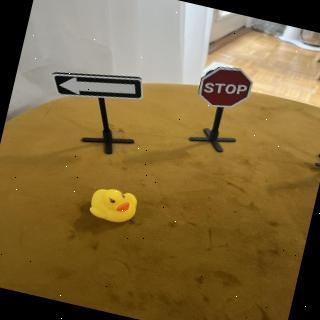duck_regular: (85, 182, 144, 230)
sign_oneway_left: (48, 57, 150, 116)
sign_stop: (195, 60, 257, 116)
